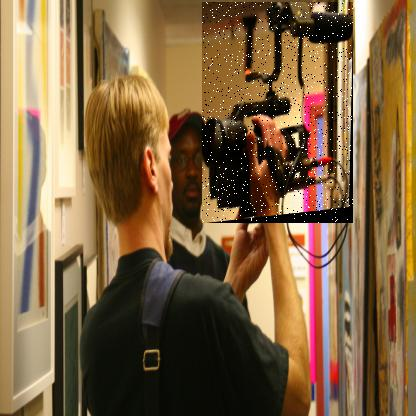Camera: (203, 3, 355, 225)
